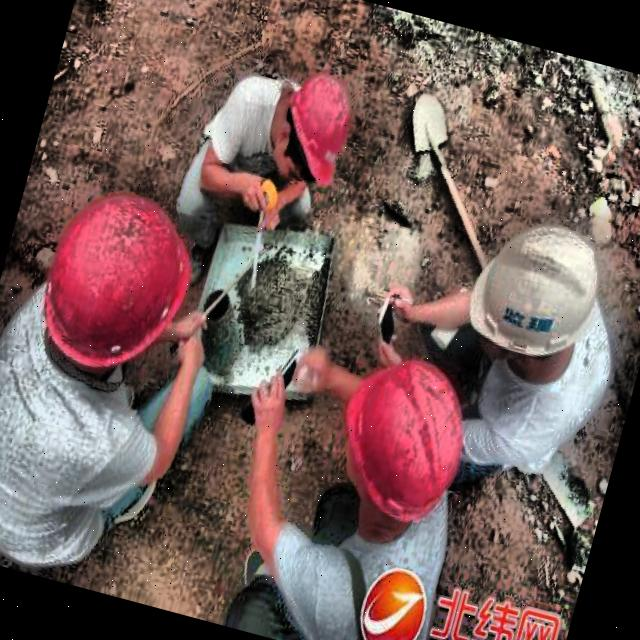helmet: (2, 162, 225, 422), (441, 188, 628, 420), (316, 331, 494, 554), (248, 56, 374, 222)
